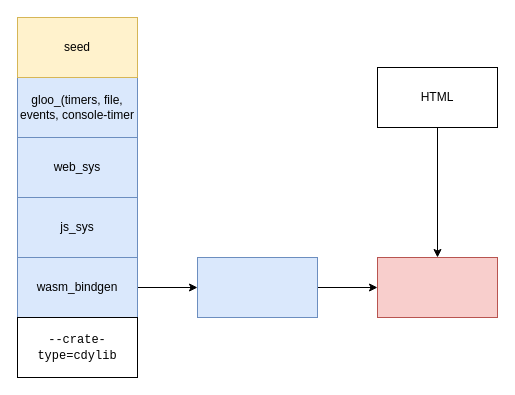
The diagram is 515 pixels wide and 395 high, and some of its shapes have lost their labels. Here are the shapes that lost their labels. From the top down, the box of each, then its label:
(196, 256, 318, 318): wasm_pack
(376, 256, 498, 318): wasm + js + package.json + .ts
